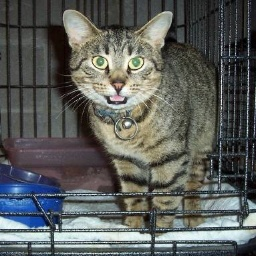cat: (63, 5, 219, 226)
